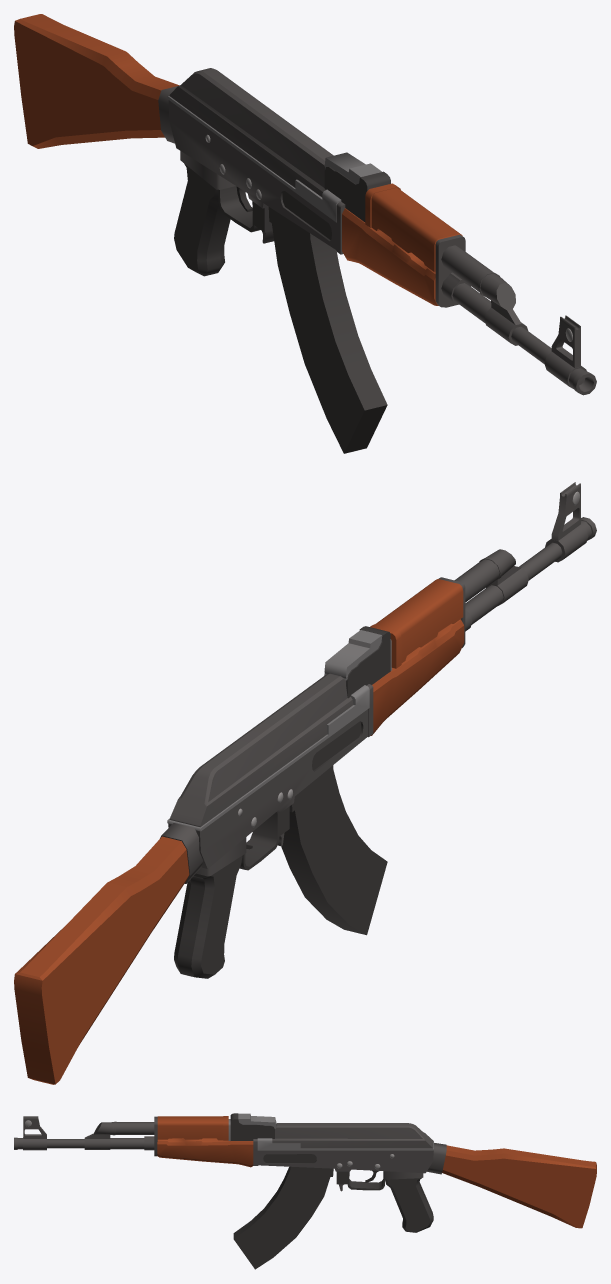
The picture shows the model from 3 angles, top to bottom: view 1: azimuth 30°, elevation 25°; view 2: azimuth 150°, elevation 25°; view 3: azimuth 270°, elevation 25°; orthographic projection. The views are drawn at different scales.
Visible parts, largest first — view 1: AK; view 2: AK; view 3: AK.
Part boxes in pixels (x1,y1,x2,y2): AK: (14,14,596,453); AK: (14,482,596,1084); AK: (14,1113,596,1269).
Size of the model in its own units: 12.93 by 105 by 367.
